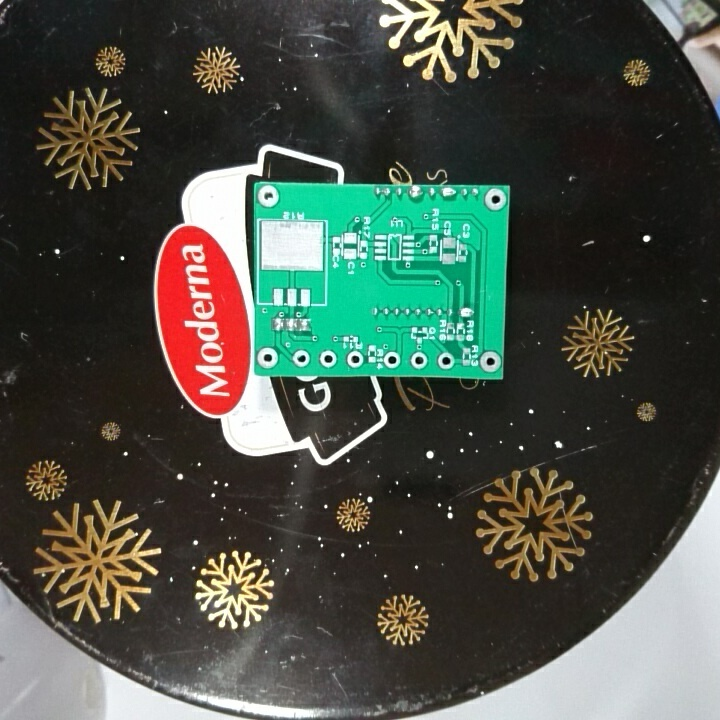F: (257, 183, 282, 210), (478, 347, 502, 374), (484, 186, 508, 212), (255, 346, 280, 370), (435, 349, 457, 372), (408, 350, 431, 371), (345, 348, 365, 370), (291, 348, 311, 369), (318, 349, 338, 369), (382, 350, 401, 369)
P: (439, 184, 459, 203), (406, 183, 425, 200), (457, 305, 475, 321)
